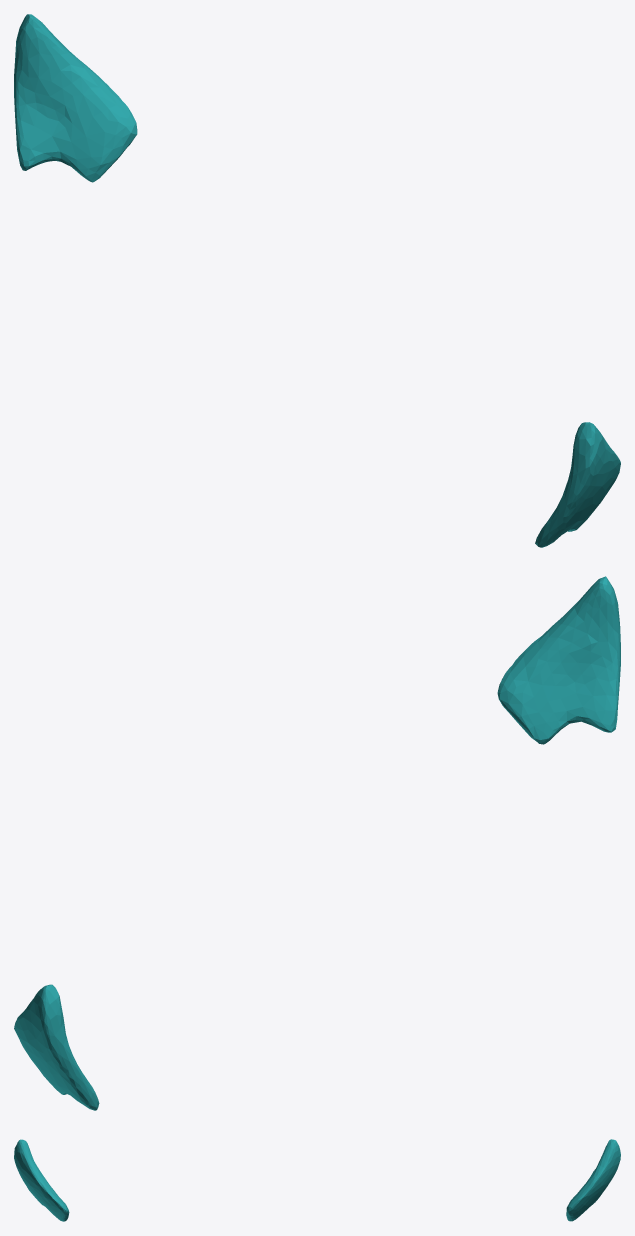
3 views of the same model, one above another, from view 1: azimuth 30°, elevation 25°; view 2: azimuth 150°, elevation 25°; view 3: azimuth 270°, elevation 25° (orthographic). The views are drawn at different scales.
Visible parts, largest first — view 1: 312782636.obj; view 2: 312782636.obj; view 3: 312782636.obj.
Part boxes in pixels (bbox=[...]): 312782636.obj: bbox=[14, 14, 620, 547]; 312782636.obj: bbox=[14, 576, 620, 1110]; 312782636.obj: bbox=[14, 1139, 620, 1221].
Bounding box in the file's own units: 914 × 1284 × 9317.
